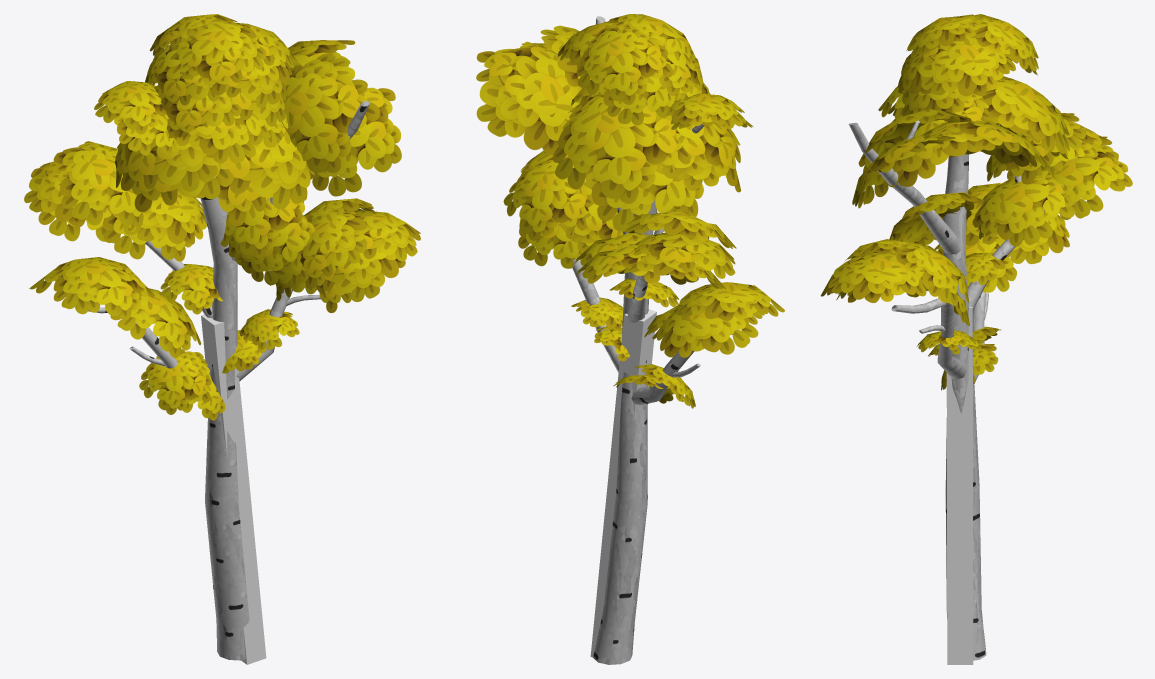
File: birch_yellow.glb
3 renders of one model, left to right at view 1: azimuth 30°, elevation 25°; view 2: azimuth 150°, elevation 25°; view 3: azimuth 270°, elevation 25°, orthographic. The views are drawn at different scales.
Parts seen in each view (by area): view 1: Birch_1, Cube.002; view 2: Birch_1, Cube.002; view 3: Birch_1, Cube.002.
Part boxes in pixels (bbox=[...]): Birch_1: bbox=[24, 14, 420, 660]; Cube.002: bbox=[201, 314, 266, 664]; Birch_1: bbox=[476, 14, 784, 664]; Cube.002: bbox=[590, 309, 656, 657]; Birch_1: bbox=[820, 14, 1132, 660]; Cube.002: bbox=[946, 307, 973, 664].
Size of the model in its own units: 9.13 by 17.81 by 8.33.
Materials: 2 (2 with a texture image).
